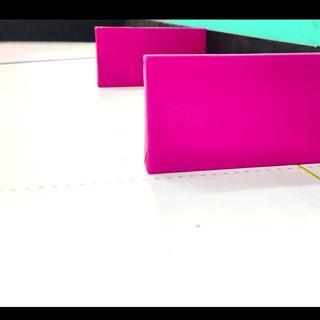xparking: (147, 54, 320, 174), (97, 27, 144, 87)
